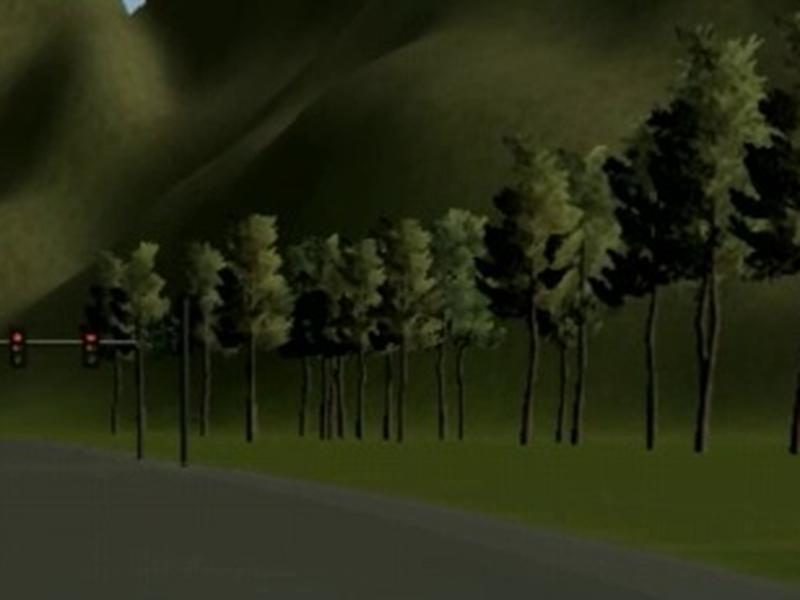Red: (7, 325, 28, 370), (82, 324, 101, 369)
